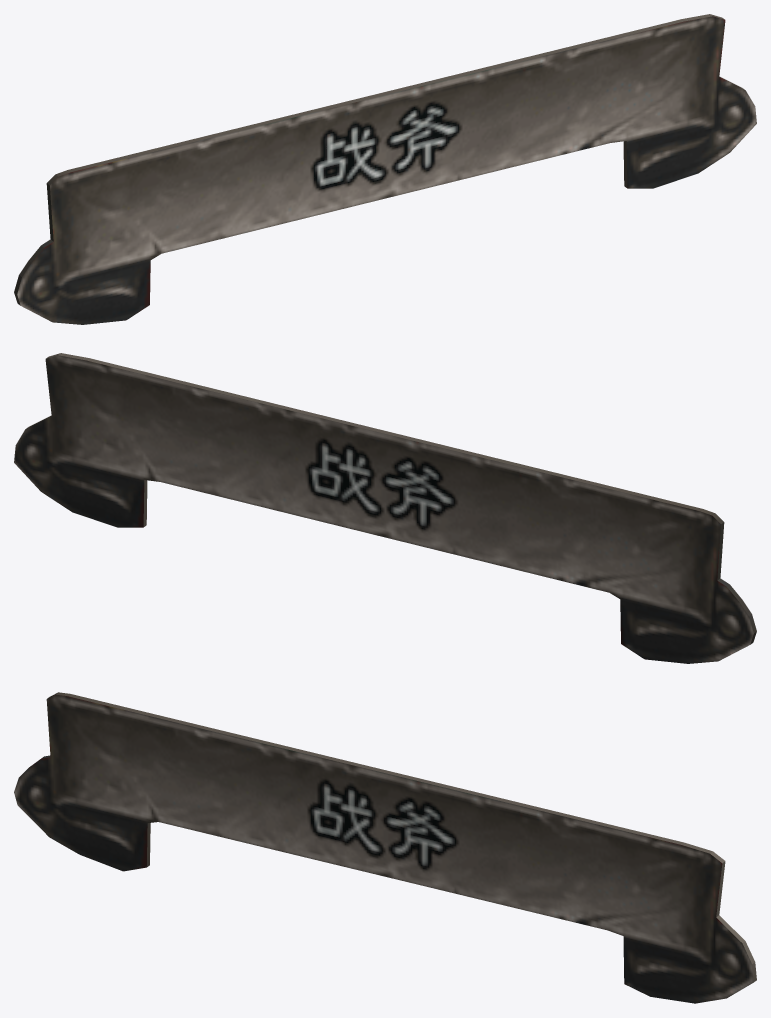
The model's file is NameTag_Played.glb.
The picture shows the model from 3 angles, top to bottom: view 1: azimuth 30°, elevation 25°; view 2: azimuth 150°, elevation 25°; view 3: azimuth 330°, elevation 25°; orthographic projection.
Parts seen in each view (by area): view 1: NameTag; view 2: NameTag; view 3: NameTag.
Boxes of the visible parts, x1,y1,x2,y2 form: NameTag: (14,14,756,324); NameTag: (14,353,756,663); NameTag: (14,692,756,1003).
Bounding box in the file's own units: 6.82 × 1.43 × 0.05.
Materials: 1 (1 with a texture image).
